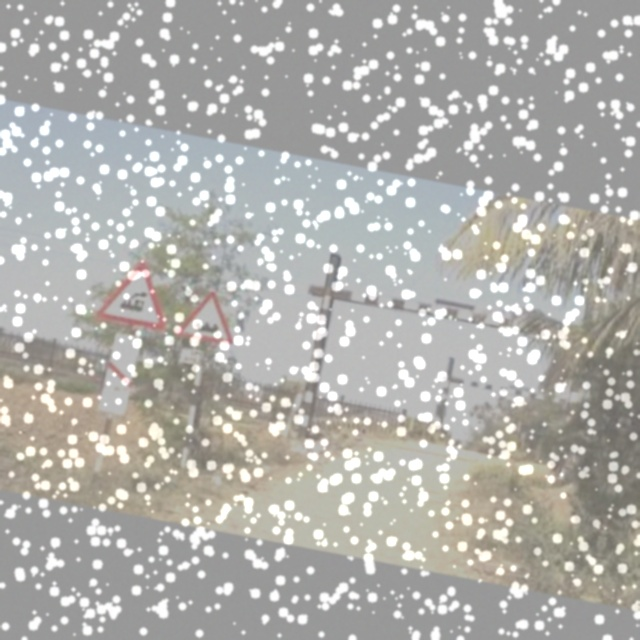Unguarded_Level_Crossing: (97, 247, 177, 339)
